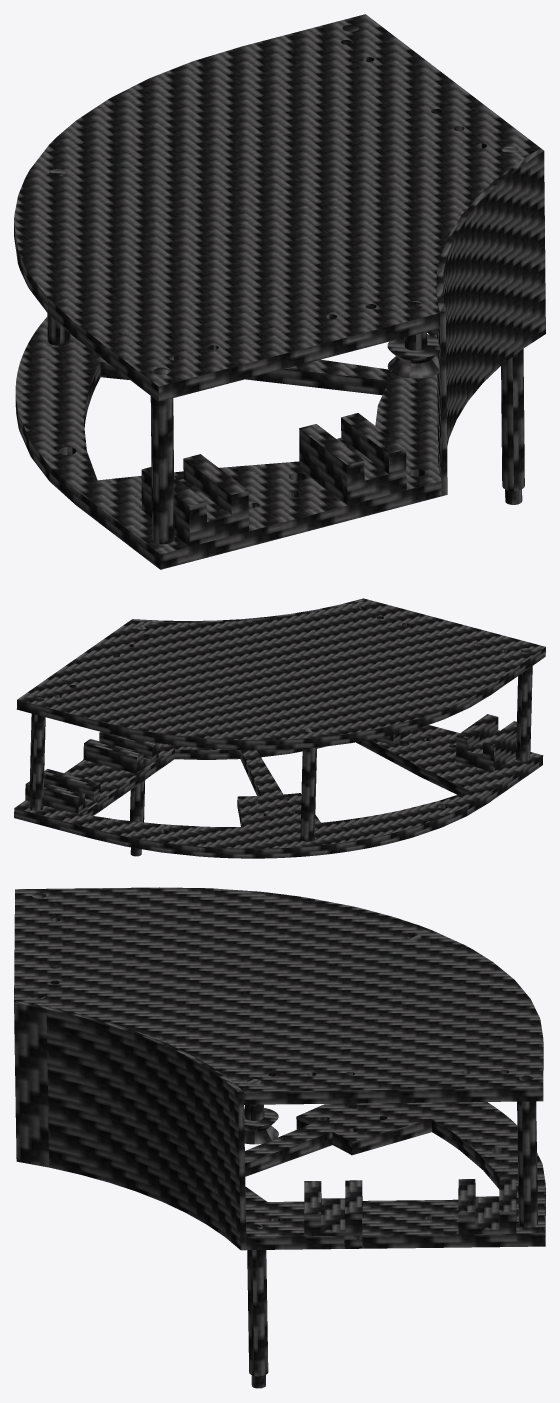
Rendered from left_down_link.dae.
3 renders of one model, top to bottom at view 1: azimuth 30°, elevation 25°; view 2: azimuth 150°, elevation 25°; view 3: azimuth 270°, elevation 25°, orthographic. The views are drawn at different scales.
Parts seen in each view (by area): view 1: left_down_link; view 2: left_down_link; view 3: left_down_link.
Part boxes in pixels (box(x1,y1,x2,y2)): left_down_link: box(14, 14, 545, 569); left_down_link: box(14, 598, 545, 858); left_down_link: box(14, 887, 545, 1388).
Bounding box in the file's own units: 0.106 × 0.1104 × 0.07.
1 material, 1 textured.
